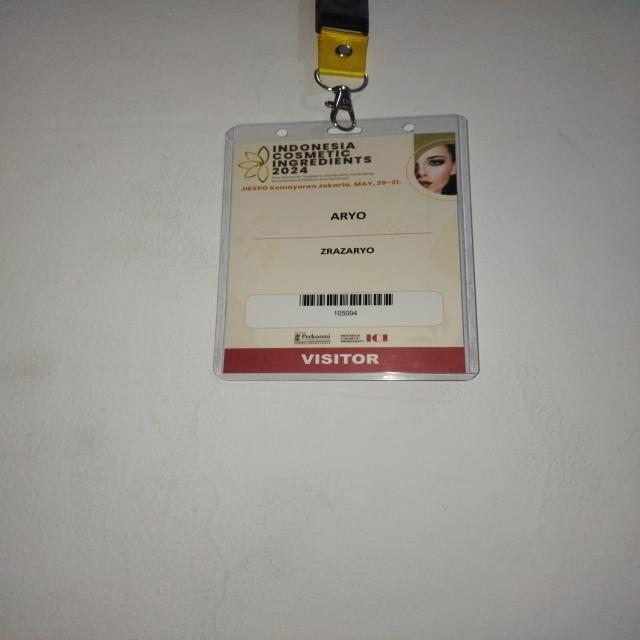ID_card: (212, 113, 479, 381)
